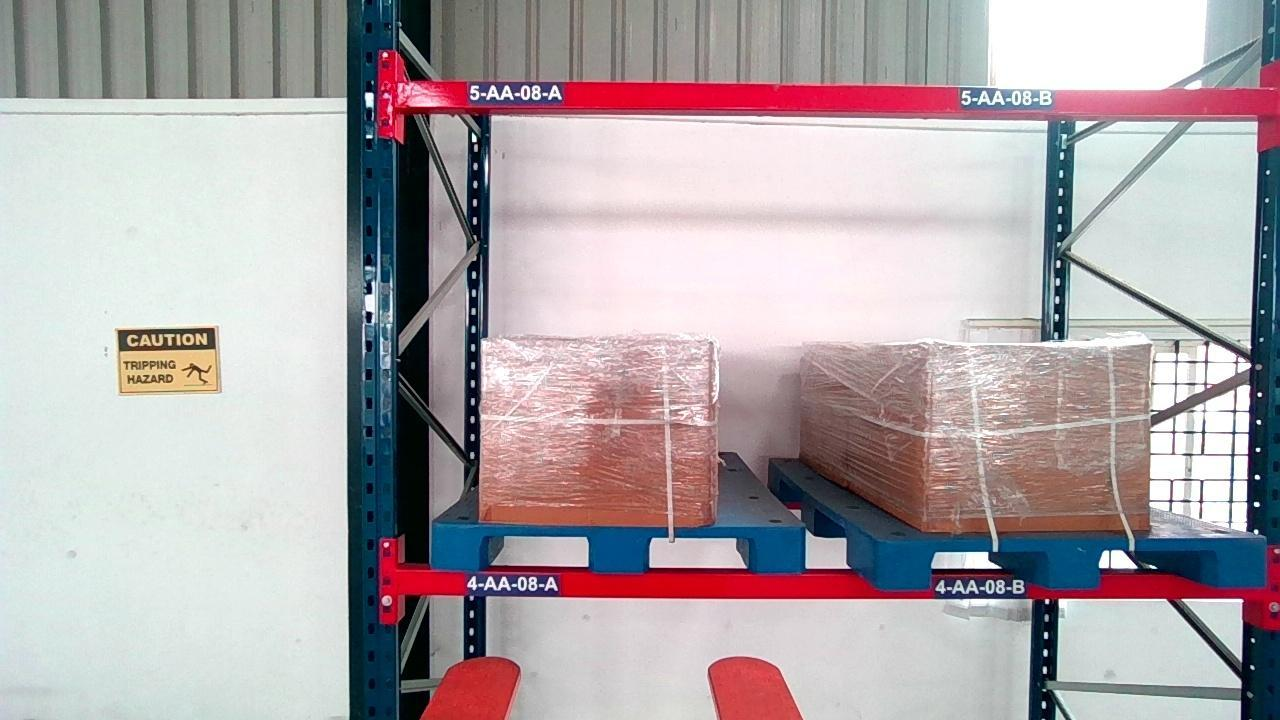h_rack: (403, 80, 1278, 117), (399, 569, 1264, 598)
small_pallet: (882, 536, 1266, 588), (432, 524, 805, 572)
